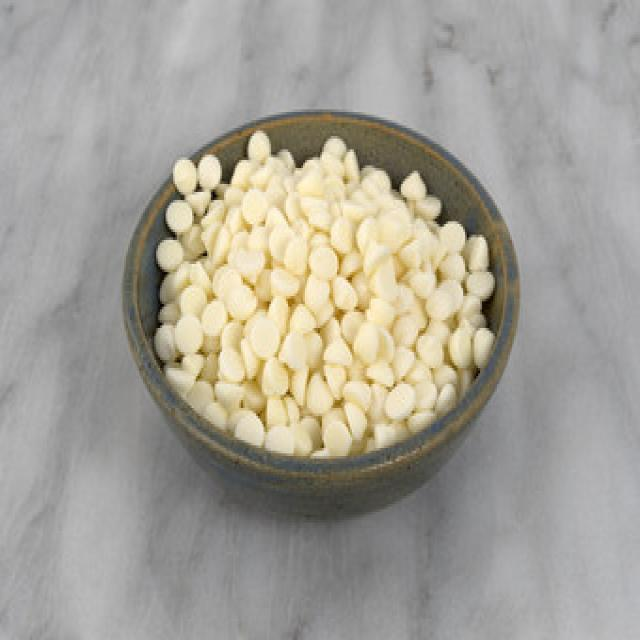Chocolate: (162, 121, 502, 467)
